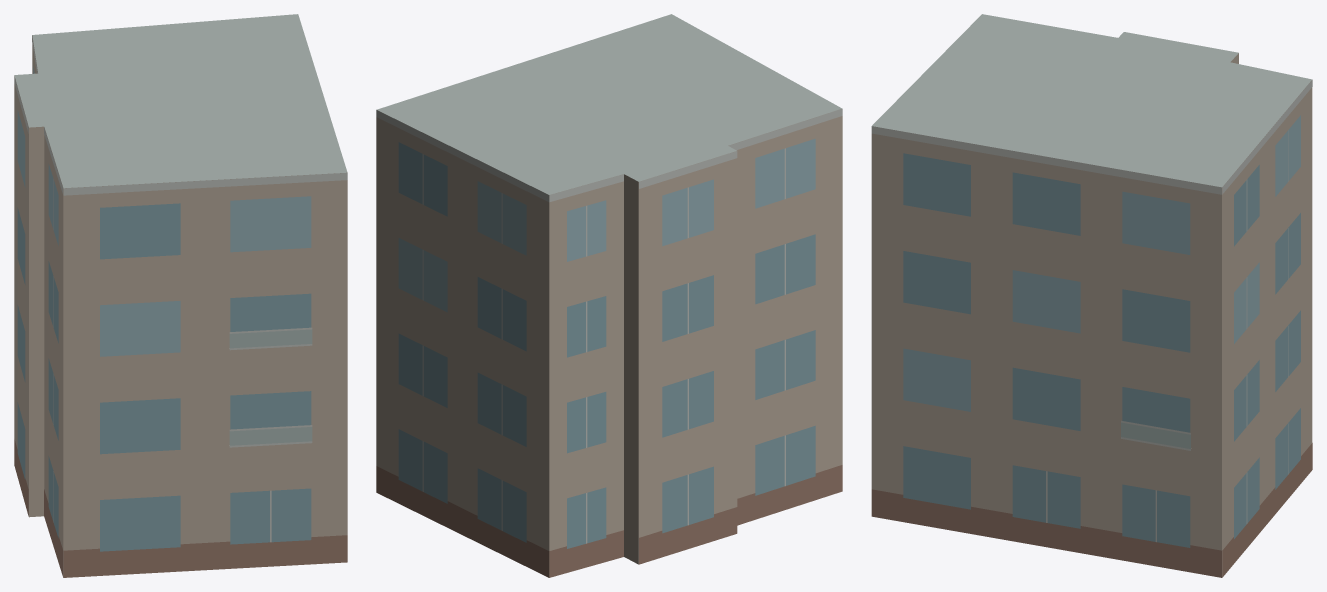
The model's file is survey-upis-32666446.glb.
The picture shows the model from 3 angles, left to right: view 1: azimuth 30°, elevation 25°; view 2: azimuth 150°, elevation 25°; view 3: azimuth 270°, elevation 25°; orthographic projection.
Visible parts, largest first — view 1: survey-upis-32666446.tmp; view 2: survey-upis-32666446.tmp; view 3: survey-upis-32666446.tmp.
Part boxes in pixels (x1=…): survey-upis-32666446.tmp: x1=14, y1=14, x2=347, y2=577; survey-upis-32666446.tmp: x1=376, y1=14, x2=842, y2=577; survey-upis-32666446.tmp: x1=871, y1=14, x2=1312, y2=577.
Size of the model in its own units: 12.2 by 12.8 by 13.11.
